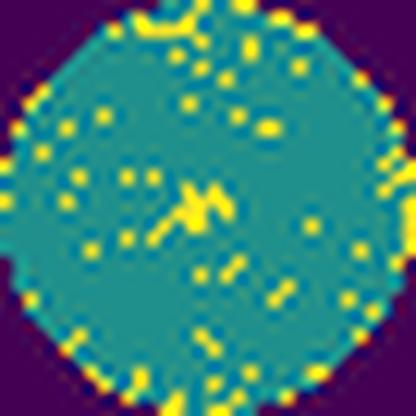Center: (144, 176, 238, 256)
